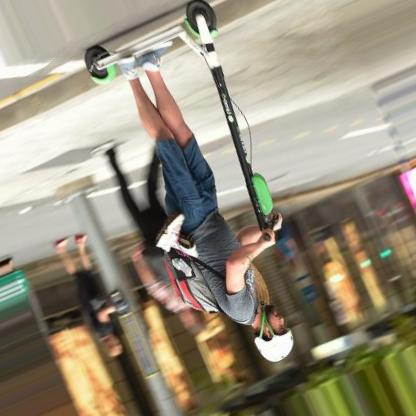scooter: (86, 1, 283, 241), (251, 304, 294, 362)
